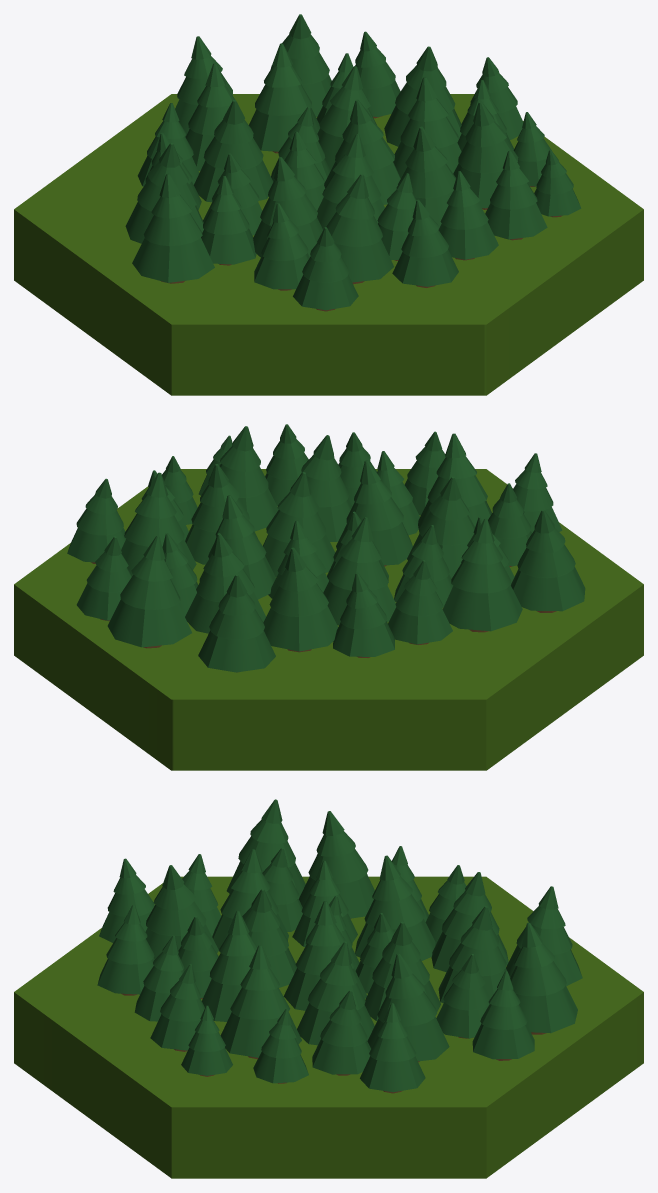
The model's file is ForestTile.fbx.
3 renders of one model, top to bottom at view 1: azimuth 30°, elevation 25°; view 2: azimuth 150°, elevation 25°; view 3: azimuth 270°, elevation 25°, orthographic.
Parts seen in each view (by area): view 1: ForestTileMesh; view 2: ForestTileMesh; view 3: ForestTileMesh.
Boxes of the visible parts, x1,y1,x2,y2 form: ForestTileMesh: (14,14,643,395); ForestTileMesh: (14,424,643,770); ForestTileMesh: (14,799,643,1178).
Bounding box in the file's own units: 0.866 × 0.3068 × 1.
